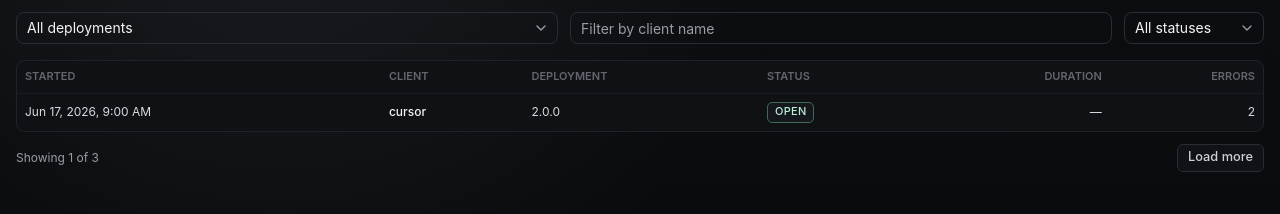
Test: SessionsTable › loads more sessions when pagination requires it
Expected: the text "Showing 1 of 3" is shown, top-left (16, 149), bottom-right (99, 166)
Click the button "Load more" at point(1220, 158), box top-left (1177, 144), bottom-right (1264, 172)
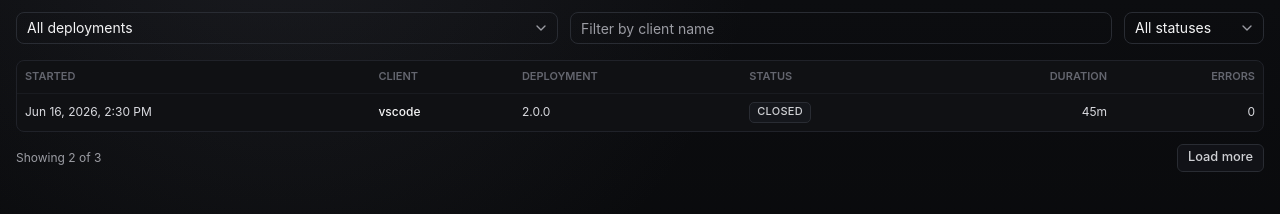
Now the text "Showing 2 of 3" is shown, box top-left (16, 149), bottom-right (102, 166)
